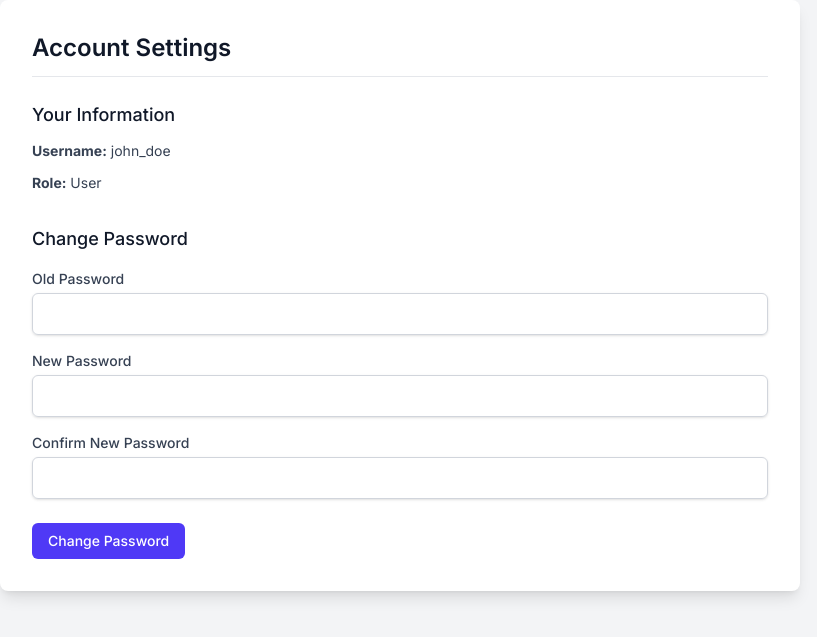
it: Account & Auth Pages Suite › AccountPage › shows error when new passwords do not match
Type "oldPass123!" into the password field labelled "Old Password" at (400, 314), box [32,293,768,335]
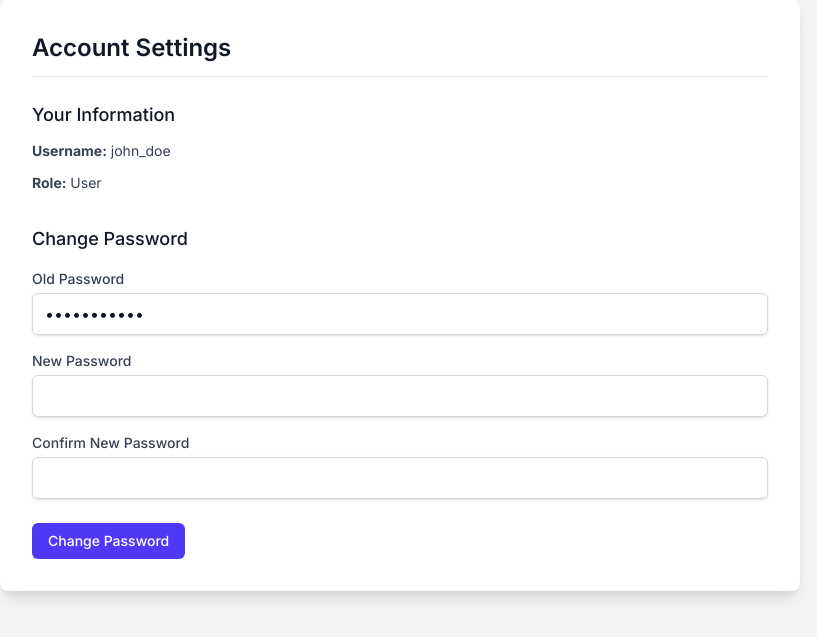
Type "NewPass123!" into the password field labelled "New Password" at (400, 396), box [32,375,768,417]
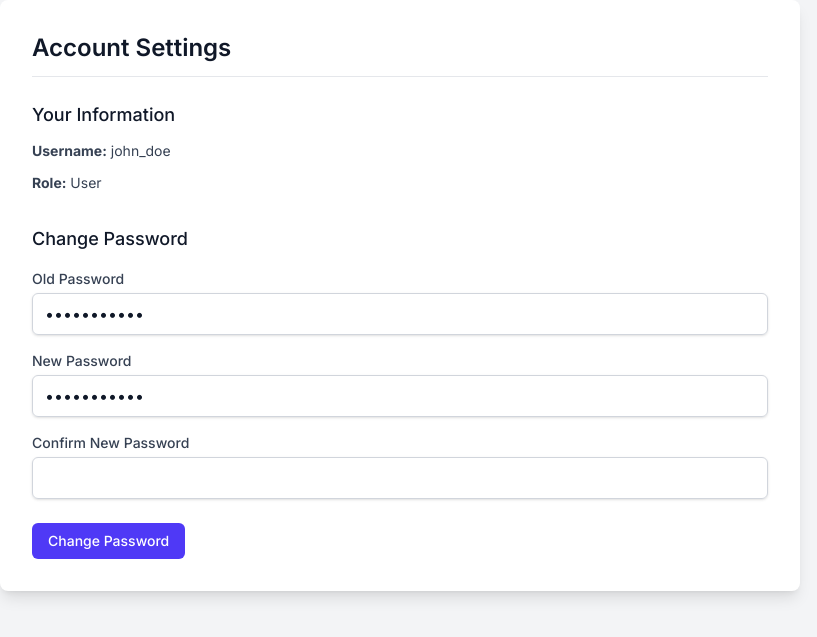
Type "Different123!" into the password field labelled "Confirm New Password" at (400, 478), box [32,457,768,499]
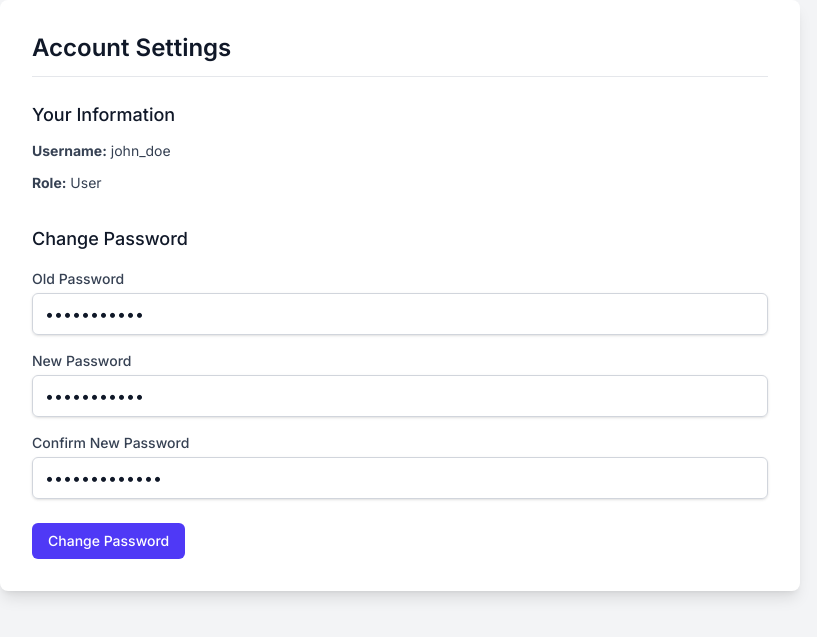
Click the button "Change Password" at (109, 541), box [32,523,185,559]
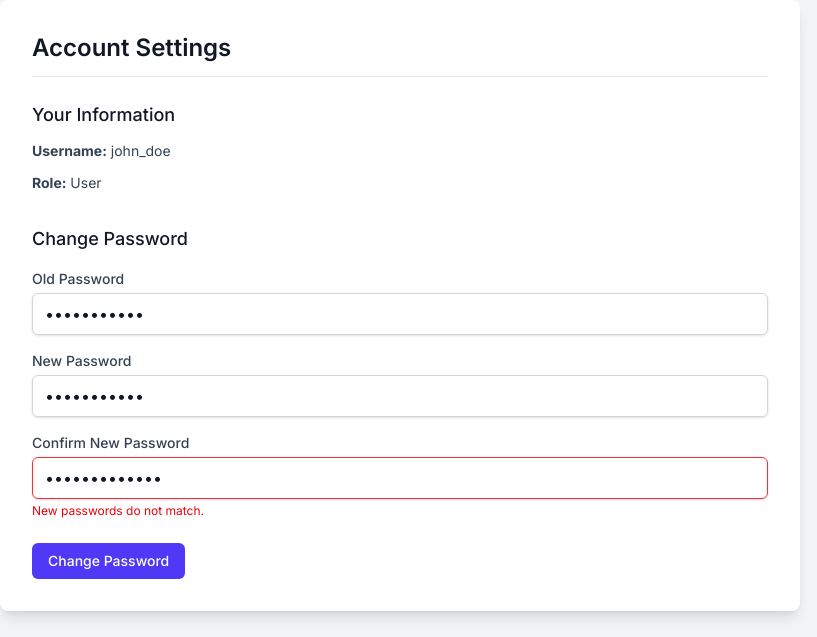
Expected: the text "New passwords do not match." is shown, [32,503,204,518]
